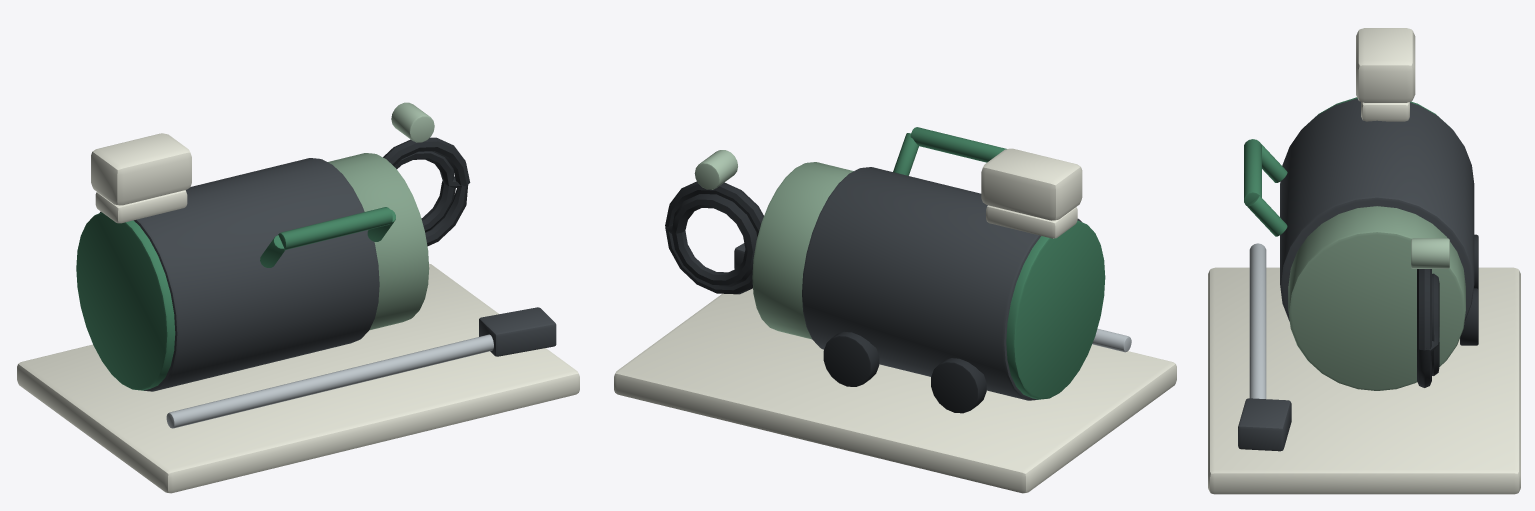
The model's file is delivery_fixture_product_vacuum.glb.
3 renders of one model, left to right at view 1: azimuth 30°, elevation 25°; view 2: azimuth 150°, elevation 25°; view 3: azimuth 270°, elevation 25°, orthographic. The views are drawn at different scales.
Visible parts, largest first — view 1: VAC_MOULDED_INSERT, VAC_MOTOR_CANISTER_SIDE_PACKED, VAC_CANISTER_GREEN_END, VAC_MOTOR_LID, VAC_DETACHED_WAND, VAC_TOP_END_BRACE, VAC_HOSE_COIL, VAC_CREVICE_NOZZLE, VAC_HANDLE_GRIP, VAC_TOP_END_BRACE_NECK, VAC_HOSE_COUPLER; view 2: VAC_MOULDED_INSERT, VAC_MOTOR_CANISTER_SIDE_PACKED, VAC_CANISTER_GREEN_END, VAC_MOTOR_LID, VAC_TOP_END_BRACE, VAC_HOSE_COIL, VAC_WHEEL_02, VAC_WHEEL_01, VAC_TOP_END_BRACE_NECK, VAC_HANDLE_GRIP, VAC_HOSE_COUPLER, VAC_HANDLE_RIGHT (+1 smaller); view 3: VAC_MOULDED_INSERT, VAC_MOTOR_LID, VAC_MOTOR_CANISTER_SIDE_PACKED, VAC_TOP_END_BRACE, VAC_DETACHED_WAND, VAC_CREVICE_NOZZLE, VAC_HOSE_COIL, VAC_HOSE_COUPLER, VAC_HANDLE_GRIP, VAC_TOP_END_BRACE_NECK, VAC_HANDLE_RIGHT, VAC_WHEEL_02 (+1 smaller).
Part boxes in pixels (x1,y1,x2,y2): VAC_MOULDED_INSERT: (17, 263, 579, 493); VAC_MOTOR_CANISTER_SIDE_PACKED: (100, 158, 379, 391); VAC_CANISTER_GREEN_END: (76, 212, 175, 390); VAC_MOTOR_LID: (328, 153, 429, 330); VAC_DETACHED_WAND: (166, 334, 493, 428); VAC_TOP_END_BRACE: (91, 133, 191, 205); VAC_HOSE_COIL: (383, 137, 470, 246); VAC_CREVICE_NOZZLE: (479, 307, 556, 356); VAC_HANDLE_GRIP: (278, 207, 392, 250); VAC_TOP_END_BRACE_NECK: (95, 190, 187, 223); VAC_HOSE_COUPLER: (391, 102, 434, 142); VAC_MOULDED_INSERT: (614, 288, 1176, 493); VAC_MOTOR_CANISTER_SIDE_PACKED: (802, 167, 1082, 400); VAC_CANISTER_GREEN_END: (1006, 220, 1105, 399); VAC_MOTOR_LID: (752, 162, 853, 339); VAC_TOP_END_BRACE: (981, 148, 1082, 220); VAC_HOSE_COIL: (665, 181, 763, 294); VAC_WHEEL_02: (823, 331, 879, 386); VAC_WHEEL_01: (931, 358, 986, 413); VAC_TOP_END_BRACE_NECK: (986, 205, 1077, 238); VAC_HANDLE_GRIP: (910, 127, 1006, 162); VAC_HOSE_COUPLER: (694, 150, 737, 189); VAC_HANDLE_RIGHT: (893, 133, 918, 175); VAC_MOULDED_INSERT: (1208, 267, 1520, 494); VAC_MOTOR_LID: (1288, 206, 1465, 390); VAC_MOTOR_CANISTER_SIDE_PACKED: (1280, 98, 1474, 321); VAC_TOP_END_BRACE: (1356, 28, 1415, 102); VAC_DETACHED_WAND: (1249, 243, 1266, 398); VAC_CREVICE_NOZZLE: (1238, 398, 1291, 451); VAC_HOSE_COIL: (1417, 269, 1439, 387); VAC_HOSE_COUPLER: (1411, 238, 1449, 268); VAC_HANDLE_GRIP: (1244, 139, 1261, 205); VAC_TOP_END_BRACE_NECK: (1361, 102, 1409, 121); VAC_HANDLE_RIGHT: (1247, 196, 1287, 236); VAC_WHEEL_02: (1460, 288, 1478, 345).
Size of the model in its own units: 0.58 by 0.36 by 0.37.
